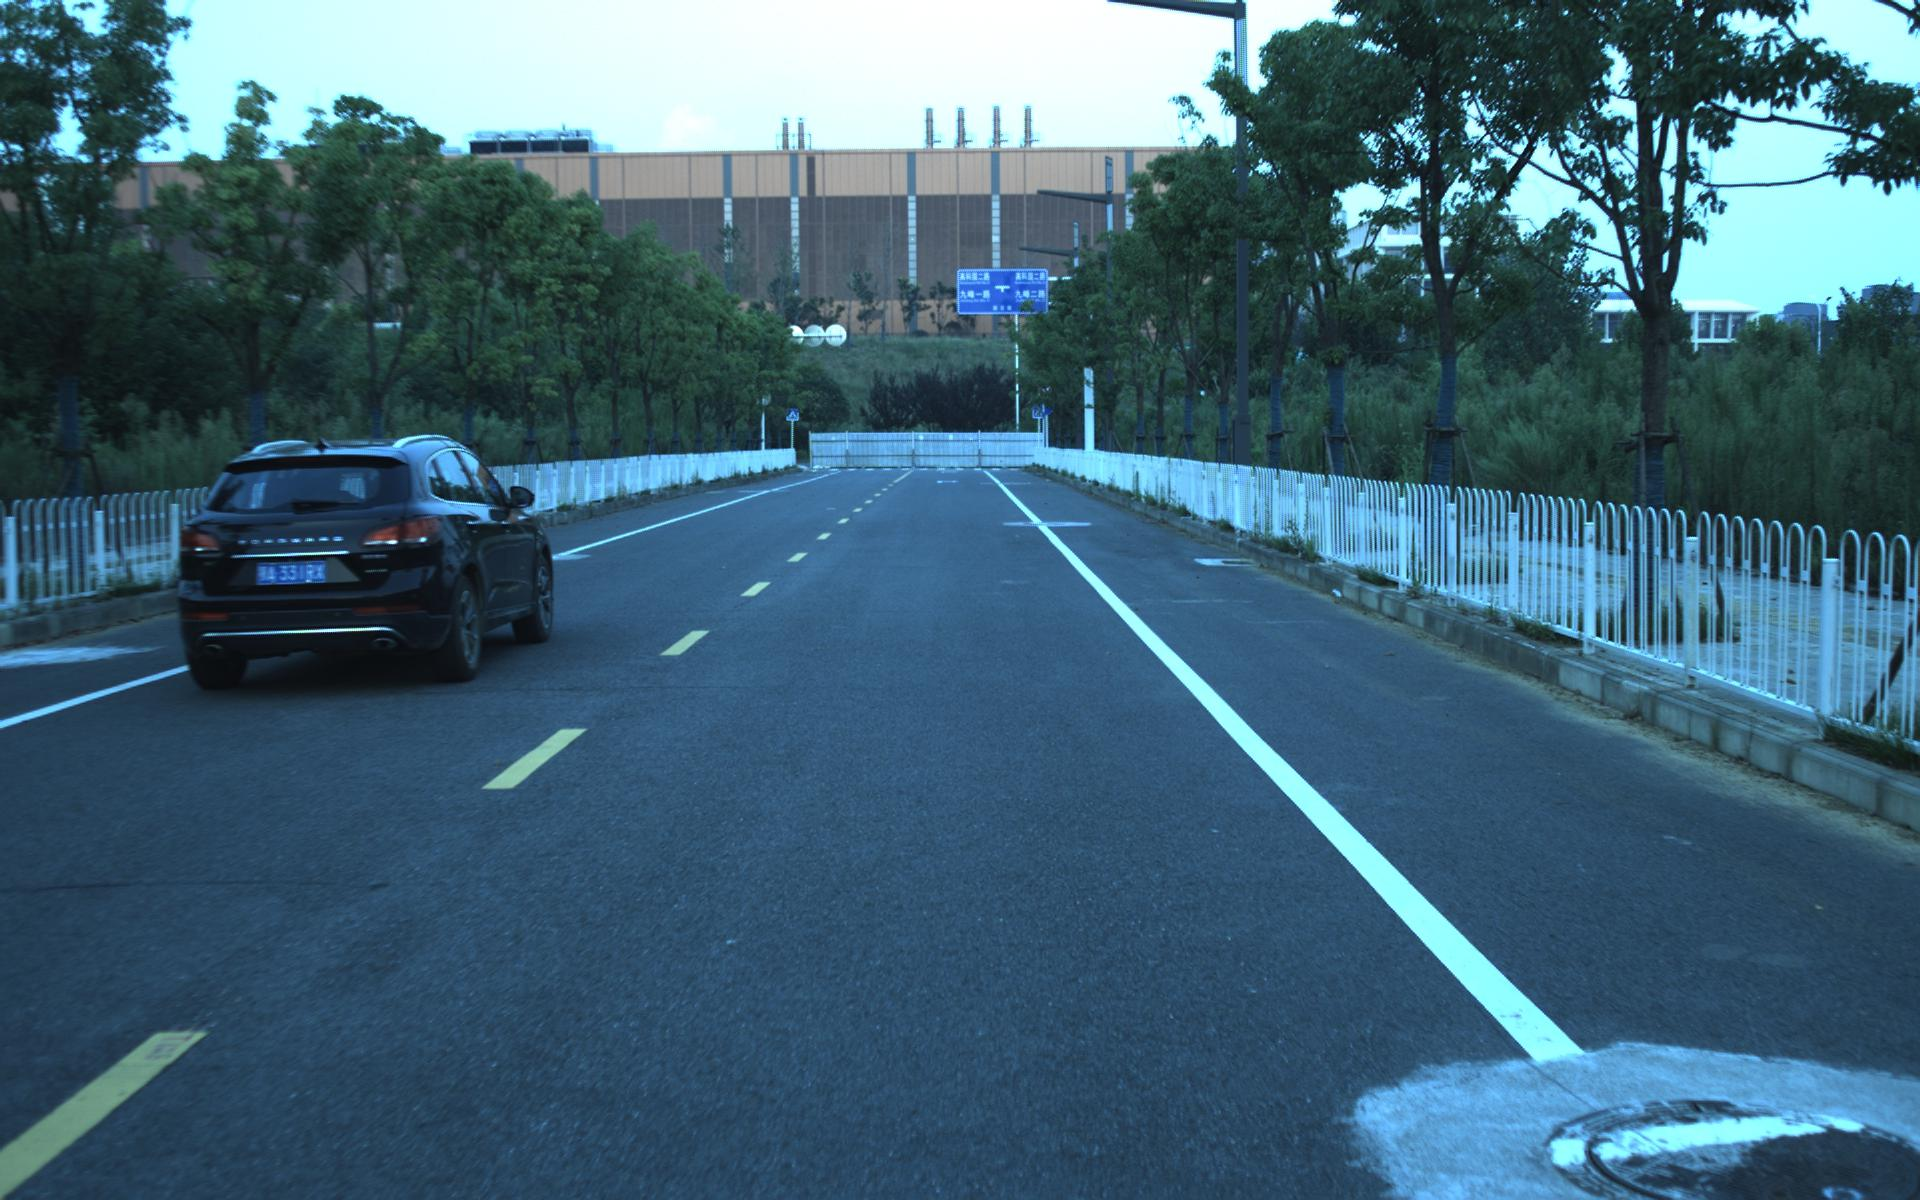Car: (158, 427, 561, 694)
